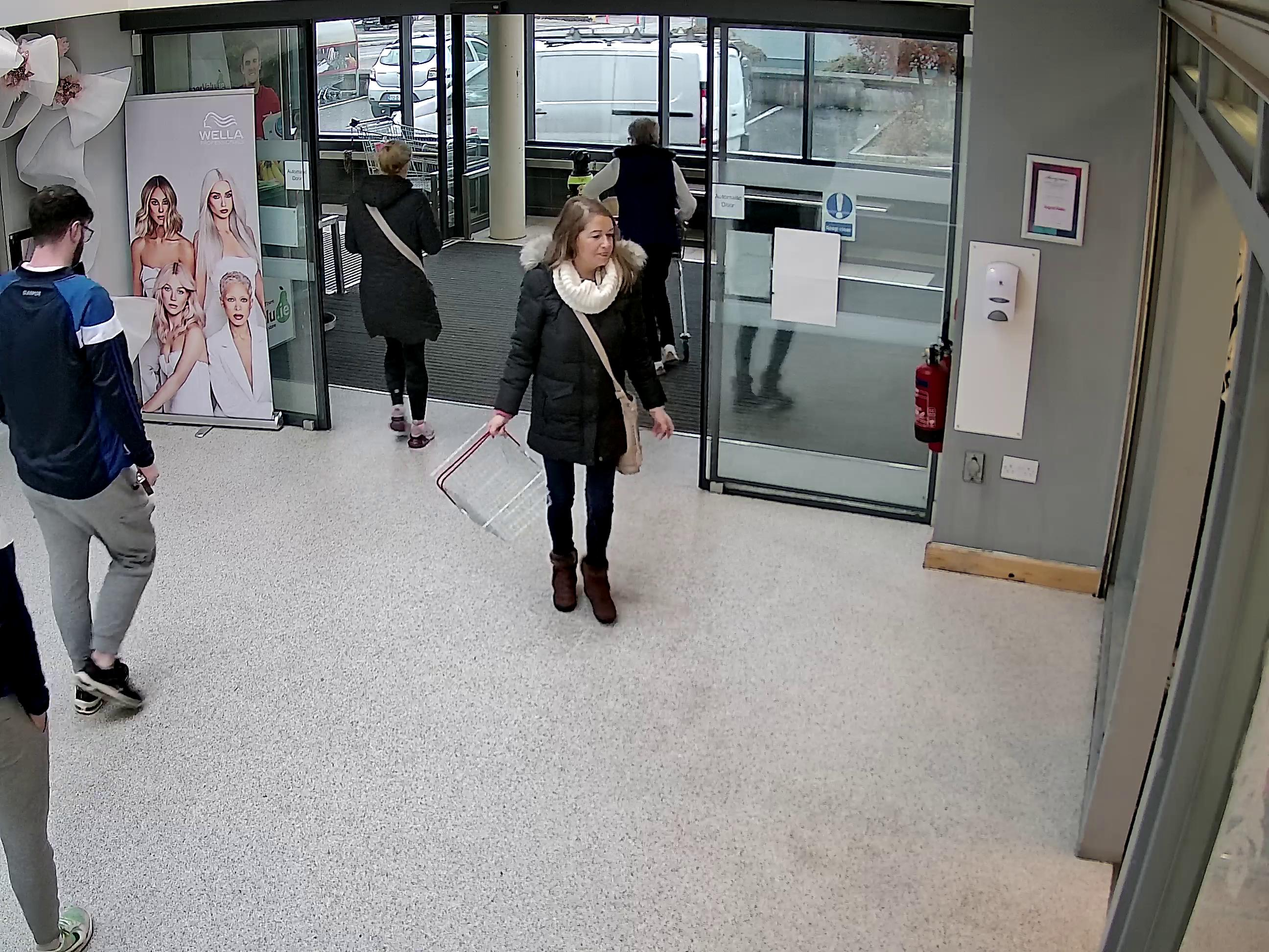backpack-or-handbag: (613, 387, 645, 475)
empty-trolly: (430, 422, 553, 545)
person: (492, 193, 674, 627)
person-with-basket-trolly-and-backpack-handbag: (429, 192, 673, 628)
